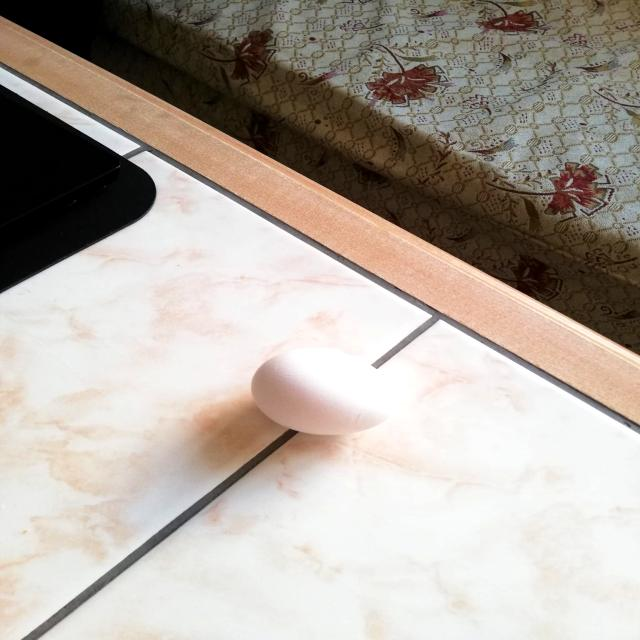egg: (246, 345, 403, 436)
